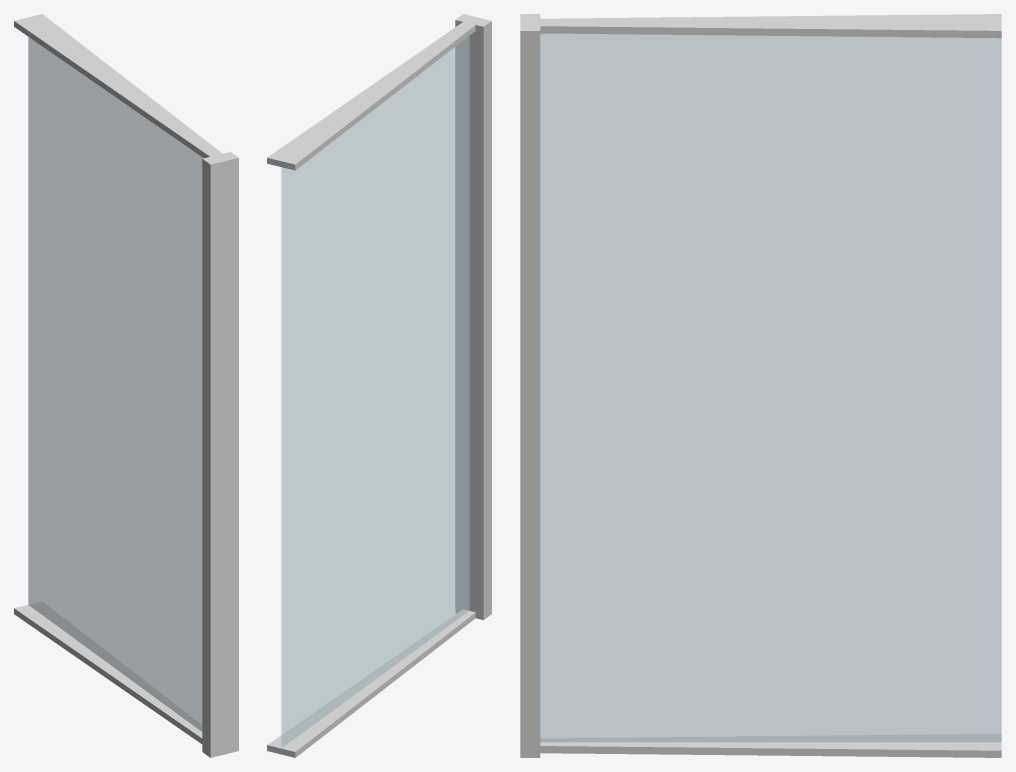
3 renders of one model, left to right at view 1: azimuth 30°, elevation 25°; view 2: azimuth 150°, elevation 25°; view 3: azimuth 270°, elevation 25°, orthographic. The views are drawn at different scales.
Parts seen in each view (by area): view 1: 玻璃, 竖杆2; view 2: 玻璃, 竖杆2; view 3: 玻璃, 竖杆2.
Boxes of the visible parts, left/top/right/bottom form: 玻璃: left=28, top=37, right=202, bottom=731; 竖杆2: left=14, top=14, right=238, bottom=757; 玻璃: left=281, top=36, right=469, bottom=747; 竖杆2: left=267, top=14, right=491, bottom=757; 玻璃: left=540, top=33, right=1001, bottom=742; 竖杆2: left=520, top=14, right=1001, bottom=757.
Size of the model in its own units: 0.1 by 2 by 1.2.
